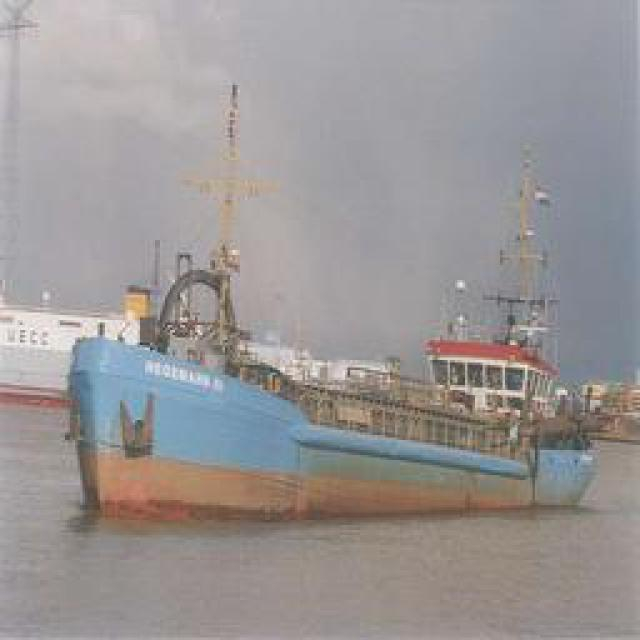Ship: (40, 286, 594, 529)
